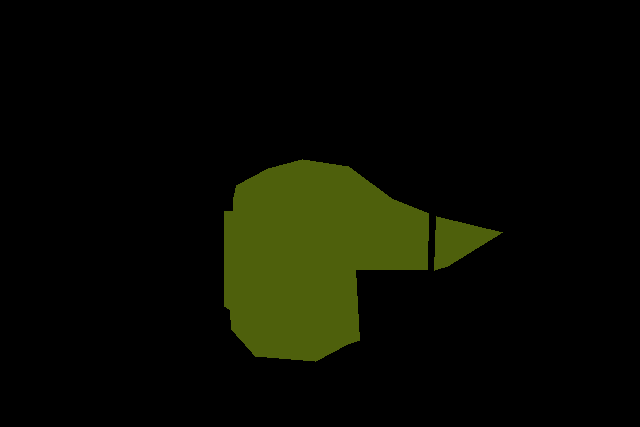Train: (224, 159, 503, 362)
